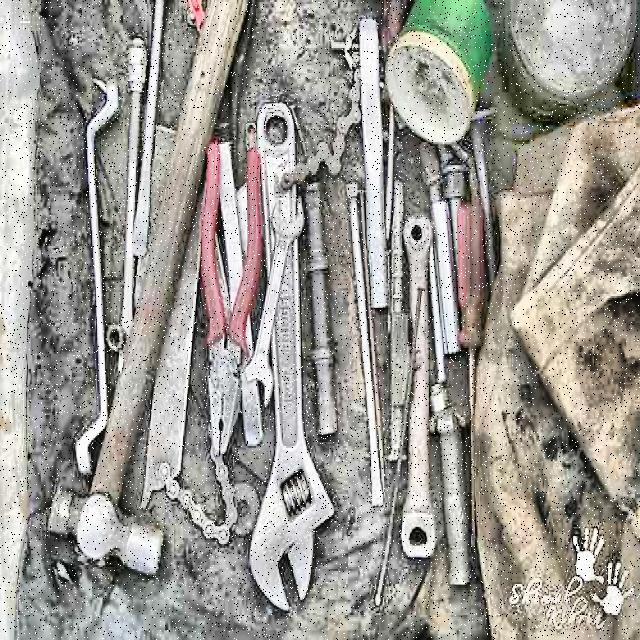hammer: (48, 4, 252, 577)
